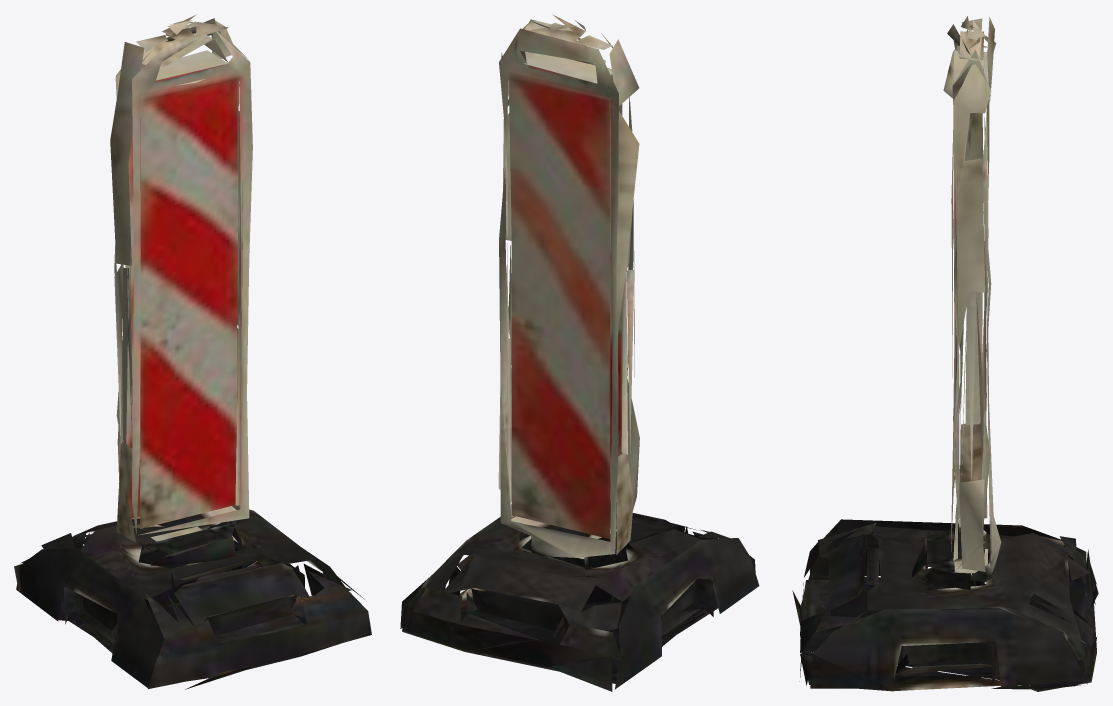
The model's file is stadt_bake_lo.glb.
The picture shows the model from 3 angles, left to right: view 1: azimuth 30°, elevation 25°; view 2: azimuth 150°, elevation 25°; view 3: azimuth 270°, elevation 25°; orthographic projection. The views are drawn at different scales.
Parts seen in each view (by area): view 1: Prop; view 2: Prop; view 3: Prop.
Part boxes in pixels (x1,y1,x2,y2): Prop: [14, 14, 371, 689]; Prop: [400, 14, 759, 691]; Prop: [792, 16, 1098, 691].
Size of the model in its own units: 0.404 by 0.9989 by 0.4491.
Materials: 1 (1 with a texture image).
